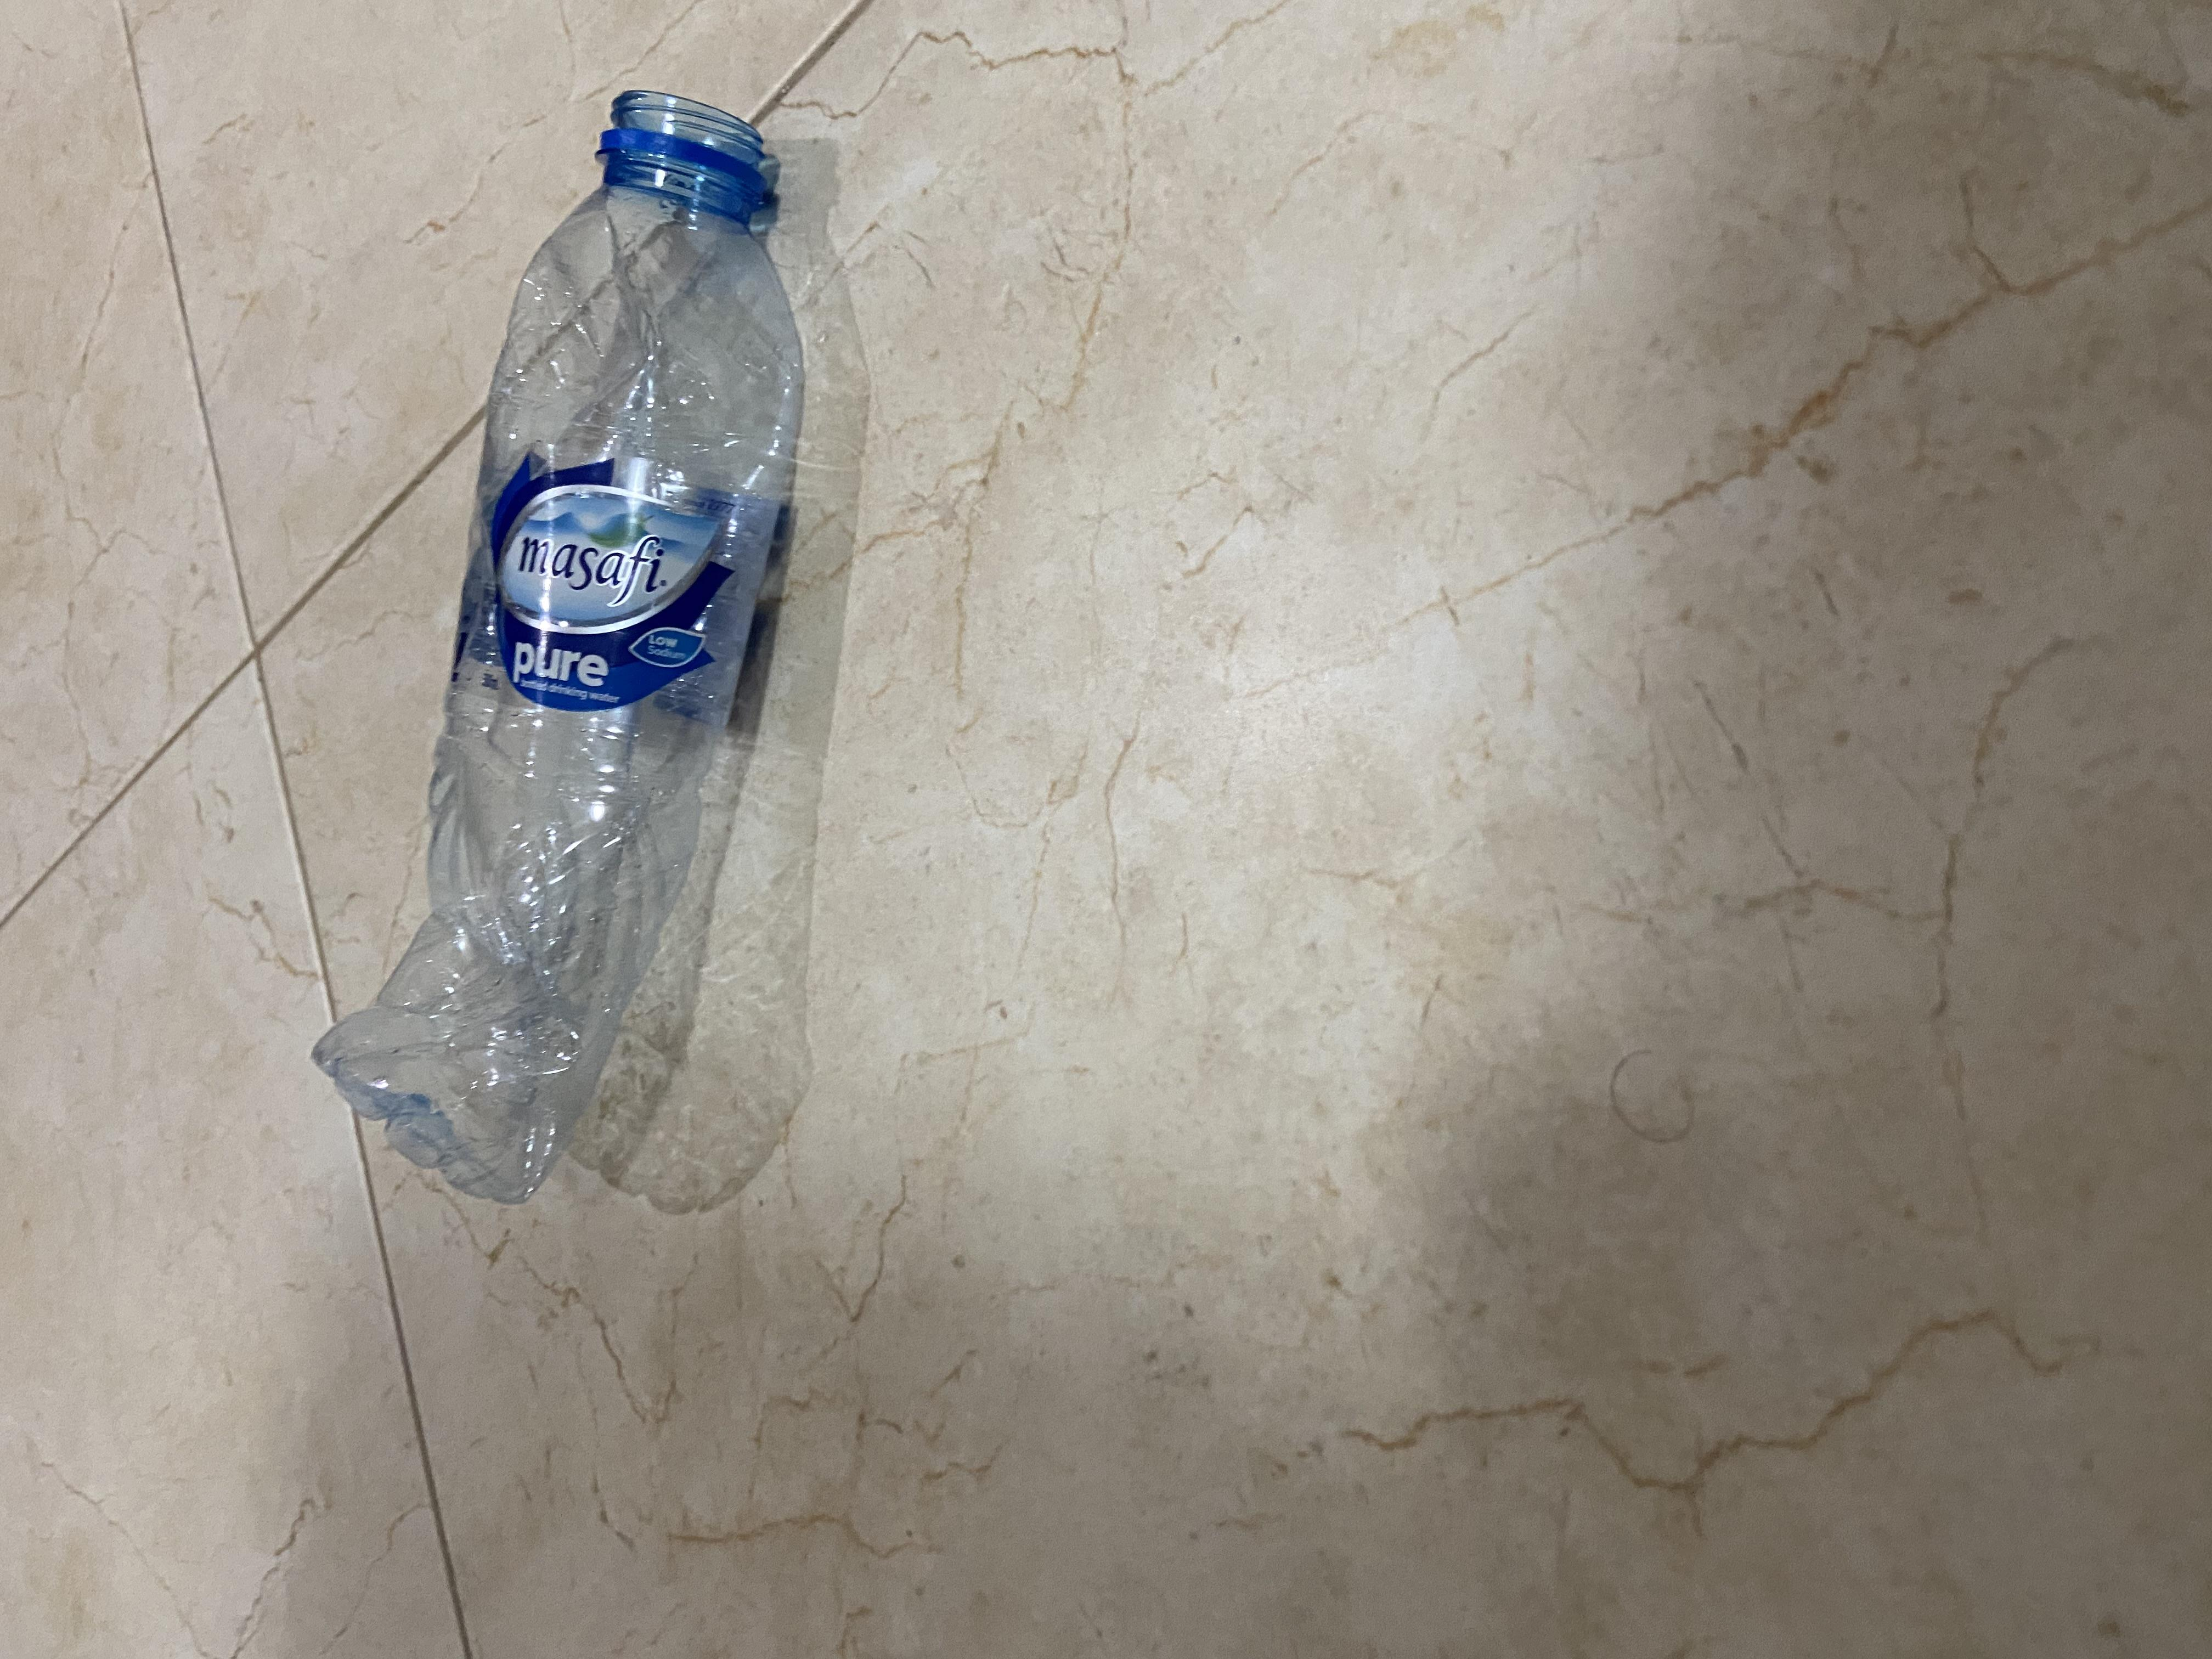bottle: (507, 227, 2114, 619)
